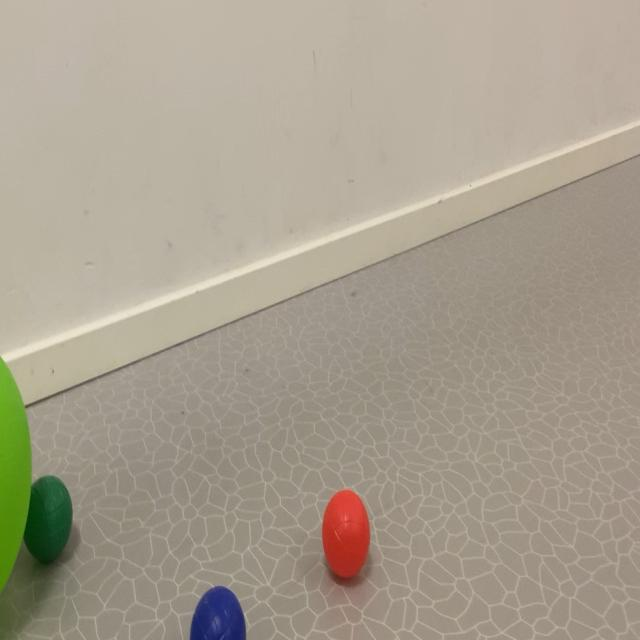7: (300, 460, 390, 615)
blue ball: (27, 447, 395, 640)
green ball: (172, 564, 276, 640)
red ball: (26, 440, 88, 600)
